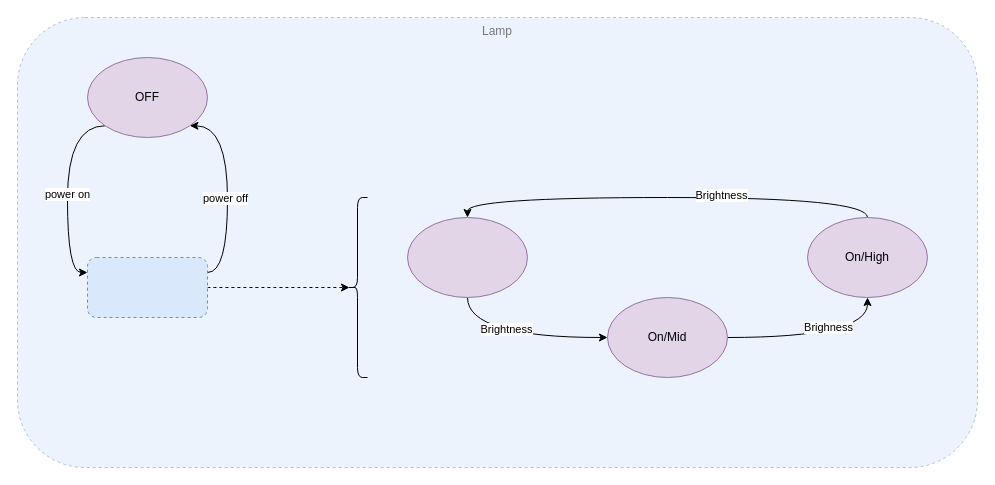
Some shapes in this 995 by 485 pixel diagram are drawn without their labels. Each missing label, with the centre of its shape:
On: pixel 147 287
On/Dim: pixel 467 257
